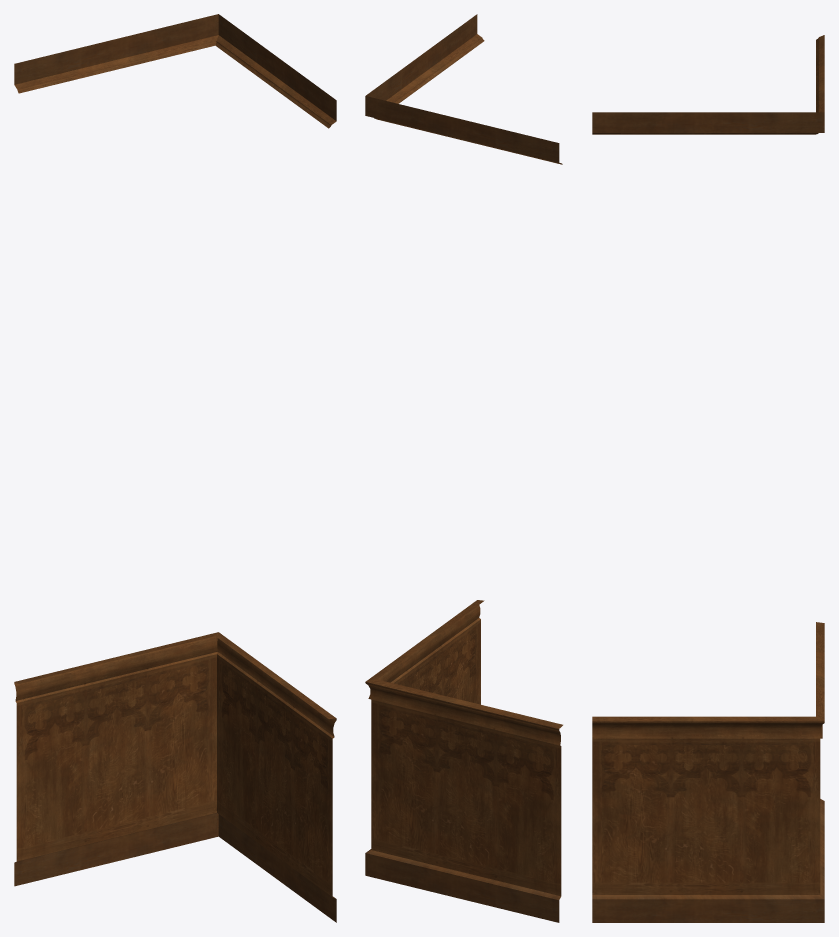
The model's file is SM_Wallbar_Carv_02.fbx.
3 renders of one model, left to right at view 1: azimuth 30°, elevation 25°; view 2: azimuth 150°, elevation 25°; view 3: azimuth 270°, elevation 25°, orthographic. The views are drawn at different scales.
Visible parts, largest first — view 1: SM_Wallbar_Carv_02; view 2: SM_Wallbar_Carv_02; view 3: SM_Wallbar_Carv_02.
Part boxes in pixels (x1=…): SM_Wallbar_Carv_02: x1=14, y1=14, x2=336, y2=922; SM_Wallbar_Carv_02: x1=365, y1=14, x2=562, y2=922; SM_Wallbar_Carv_02: x1=592, y1=35, x2=824, y2=922.
Bounding box in the file's own units: 104 × 400 × 104.
